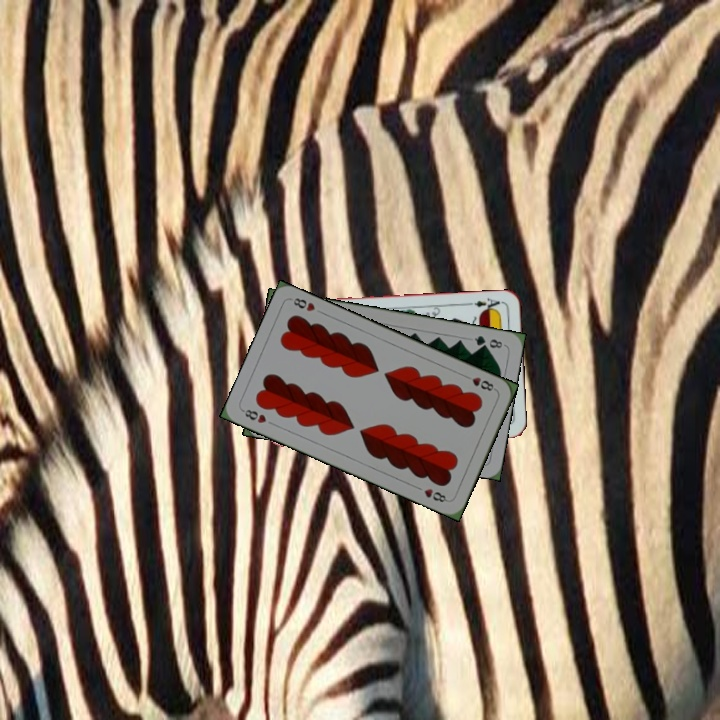EA: (464, 294, 502, 313)
G8: (470, 331, 505, 351)
H8: (460, 371, 498, 394), (239, 405, 269, 426)
